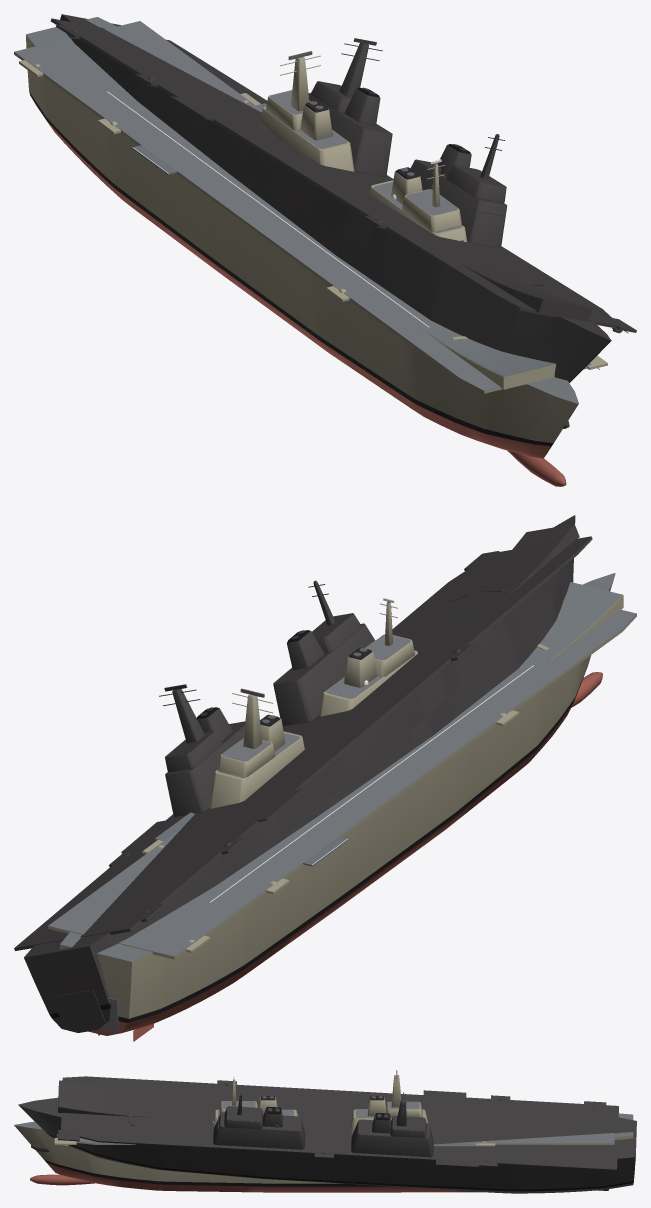
File: landingShip__trieste.glb
3 renders of one model, top to bottom at view 1: azimuth 30°, elevation 25°; view 2: azimuth 150°, elevation 25°; view 3: azimuth 270°, elevation 25°, orthographic. The views are drawn at different scales.
Parts seen in each view (by area): view 1: Hull_Mesh, Wreck; view 2: Hull_Mesh, Wreck; view 3: Wreck, Hull_Mesh.
Boxes of the visible parts, left/top/right/bottom form: Hull_Mesh: left=14, top=17, right=607, bottom=486; Wreck: left=50, top=14, right=636, bottom=428; Hull_Mesh: left=48, top=573, right=636, bottom=1041; Wreck: left=14, top=515, right=592, bottom=1035; Wreck: left=18, top=1076, right=636, bottom=1193; Hull_Mesh: left=14, top=1070, right=633, bottom=1192.
Size of what is drawn, in the model's own units: 57.51 by 56.55 by 257.
